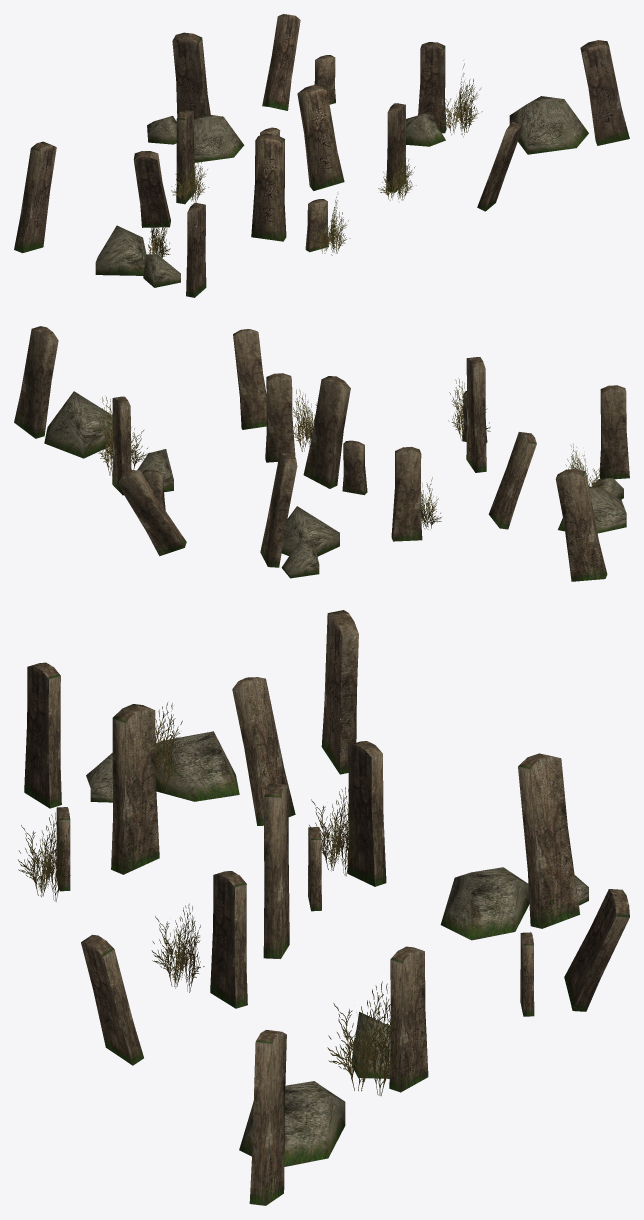
File: cj_grave_tombstone07_01.glb
The picture shows the model from 3 angles, top to bottom: view 1: azimuth 30°, elevation 25°; view 2: azimuth 150°, elevation 25°; view 3: azimuth 270°, elevation 25°; orthographic projection. The views are drawn at different scales.
Visible parts, largest first — view 1: cj_grave_tombstone07_02, cj_grave_tombstone07_01, cj_grave_tombstone07_03, cj_grave_tombstone07_04; view 2: cj_grave_tombstone07_02, cj_grave_tombstone07_03, cj_grave_tombstone07_04; view 3: cj_grave_tombstone07_02, cj_grave_tombstone07_03, cj_grave_tombstone07_01, cj_grave_tombstone07_04.
Boxes of the visible parts, left/top/right/bottom form: cj_grave_tombstone07_02: left=14, top=14, right=608, bottom=297; cj_grave_tombstone07_01: left=22, top=15, right=629, bottom=297; cj_grave_tombstone07_03: left=95, top=96, right=588, bottom=287; cj_grave_tombstone07_04: left=148, top=60, right=482, bottom=257; cj_grave_tombstone07_02: left=14, top=326, right=629, bottom=581; cj_grave_tombstone07_03: left=44, top=391, right=626, bottom=578; cj_grave_tombstone07_04: left=94, top=378, right=605, bottom=529; cj_grave_tombstone07_02: left=28, top=610, right=629, bottom=1205; cj_grave_tombstone07_03: left=86, top=731, right=588, bottom=1166; cj_grave_tombstone07_01: left=24, top=613, right=616, bottom=1065; cj_grave_tombstone07_04: left=18, top=702, right=403, bottom=1095.
Bounding box in the file's own units: 8.53 × 1.82 × 4.99.
Materials: 4 (4 with a texture image).
